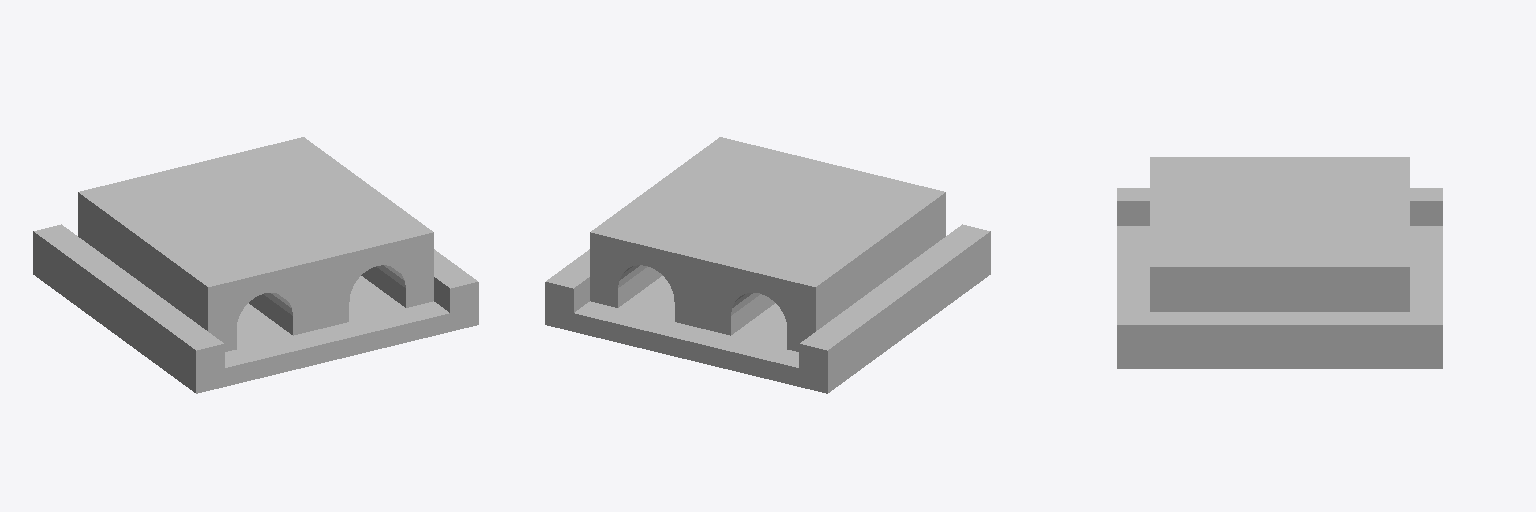
Rendered from tunnelDouble.obj.
3 renders of one model, left to right at view 1: azimuth 30°, elevation 25°; view 2: azimuth 150°, elevation 25°; view 3: azimuth 270°, elevation 25°, orthographic.
Parts seen in each view (by area): view 1: tunnelDouble; view 2: tunnelDouble; view 3: tunnelDouble.
Boxes of the visible parts, x1,y1,x2,y2 form: tunnelDouble: [33, 137, 478, 393]; tunnelDouble: [545, 137, 990, 393]; tunnelDouble: [1117, 157, 1442, 368].
Size of the model in its own units: 0.9999 by 0.2966 by 0.9999.